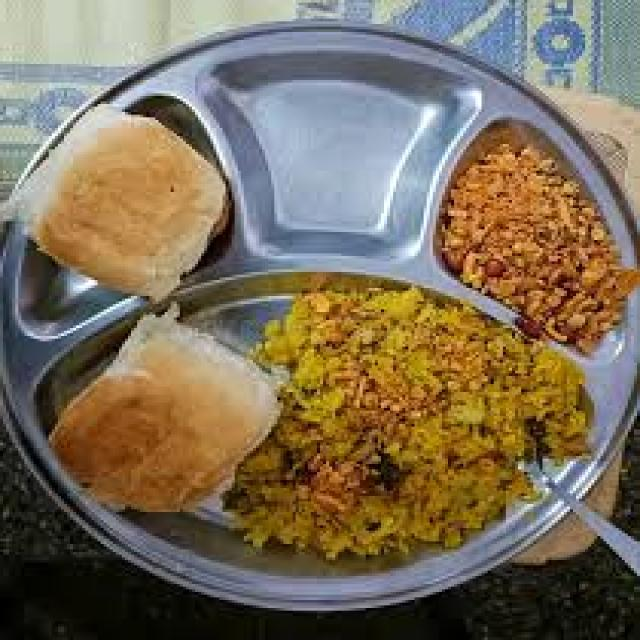POHA: (236, 299, 586, 553)
